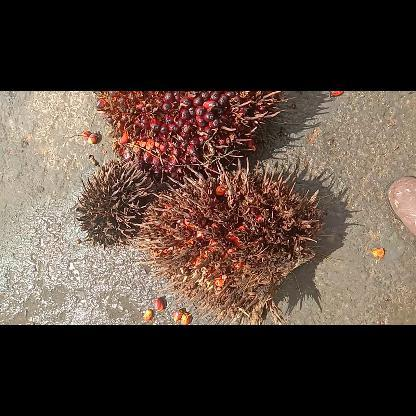Janjang kosong: (74, 158, 154, 248)
TBS masak: (93, 90, 286, 180)
Terlalu masak: (134, 156, 322, 324)
